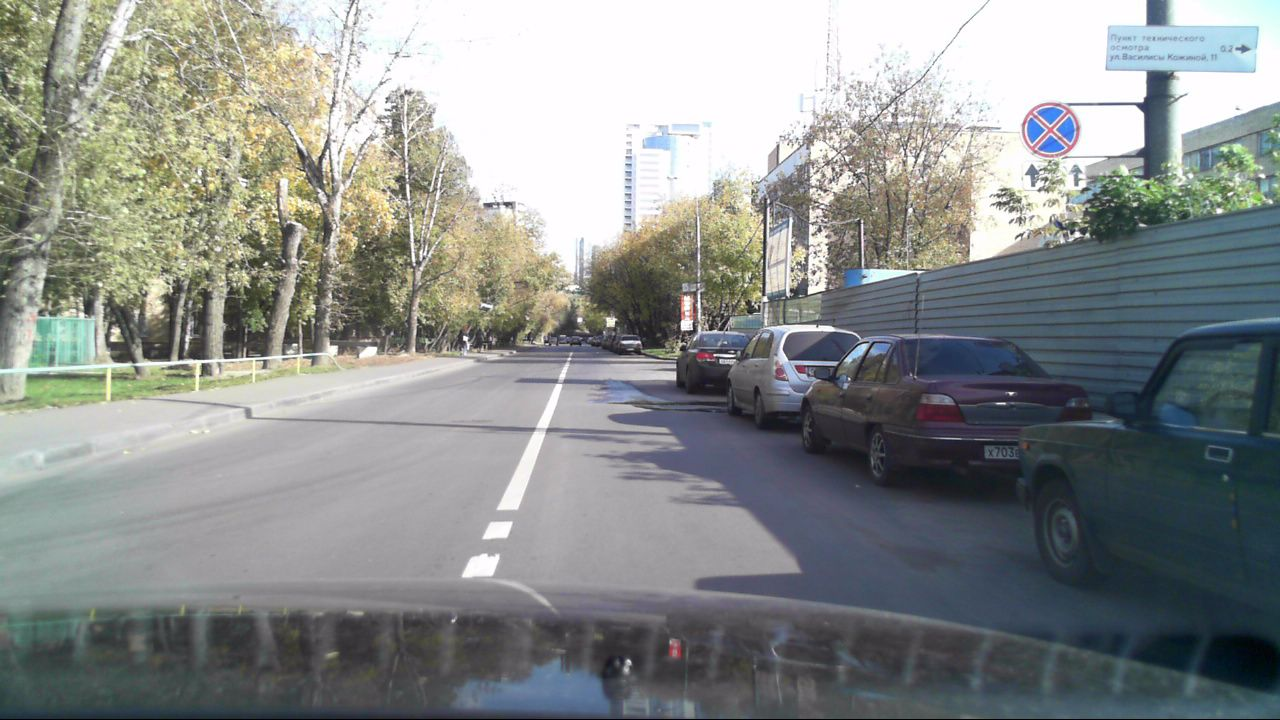No Parking: (1022, 100, 1080, 161)
